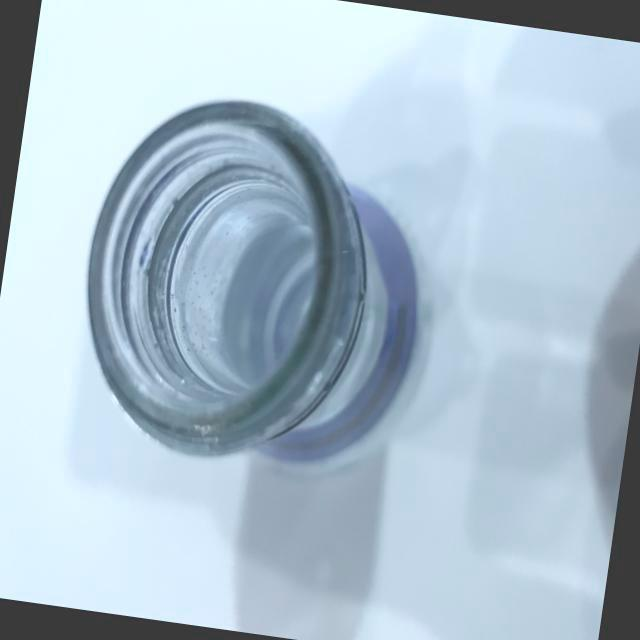glass: (46, 70, 461, 500)
